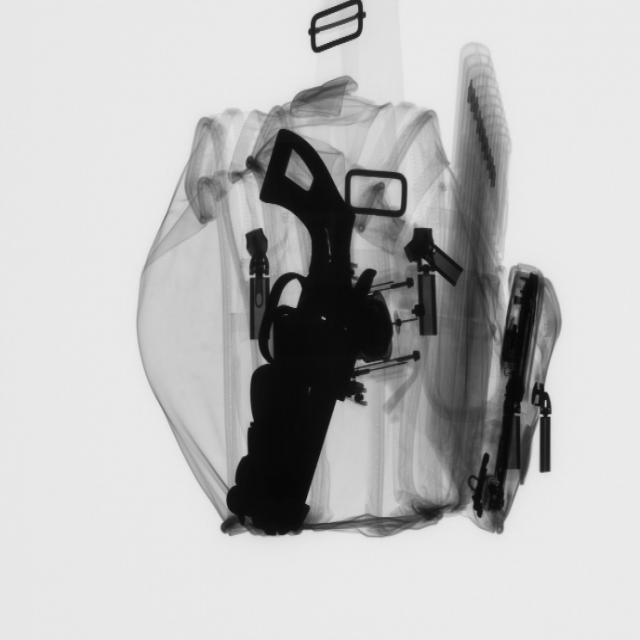GUN: (236, 134, 394, 549)
